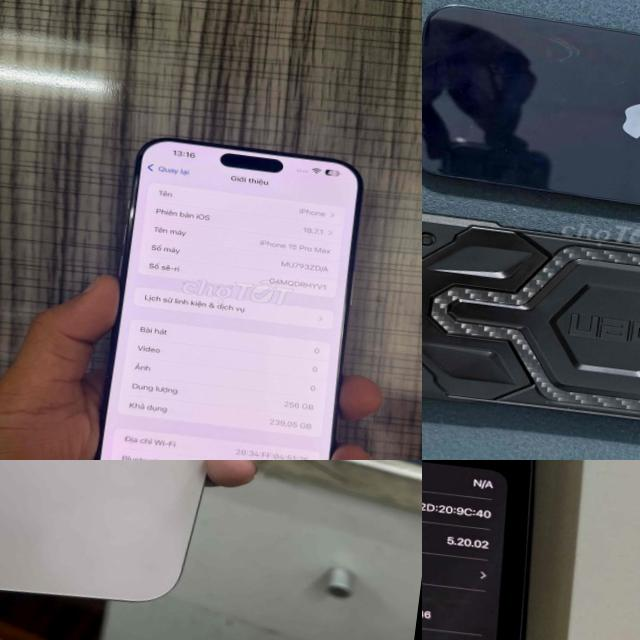scratch: (538, 29, 593, 67)
